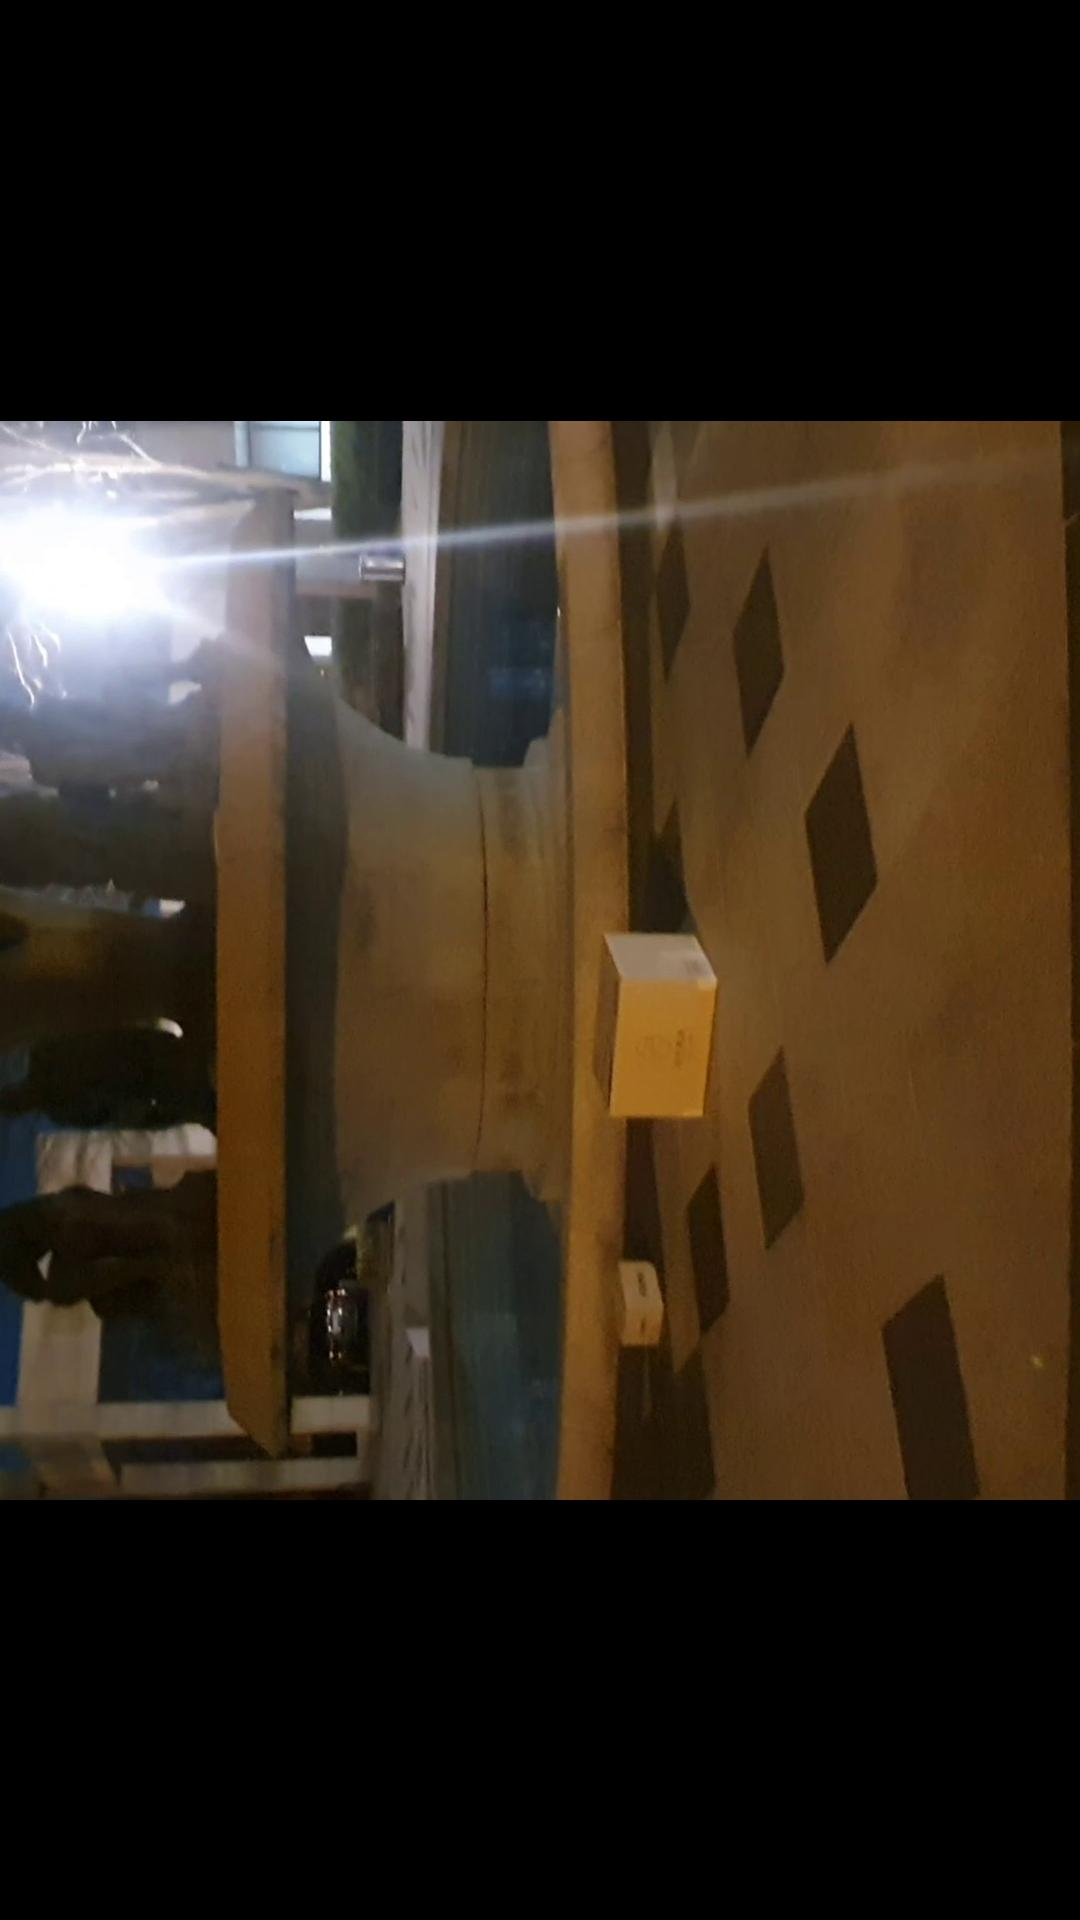Box: (580, 922, 731, 1124), (600, 1247, 680, 1344)
